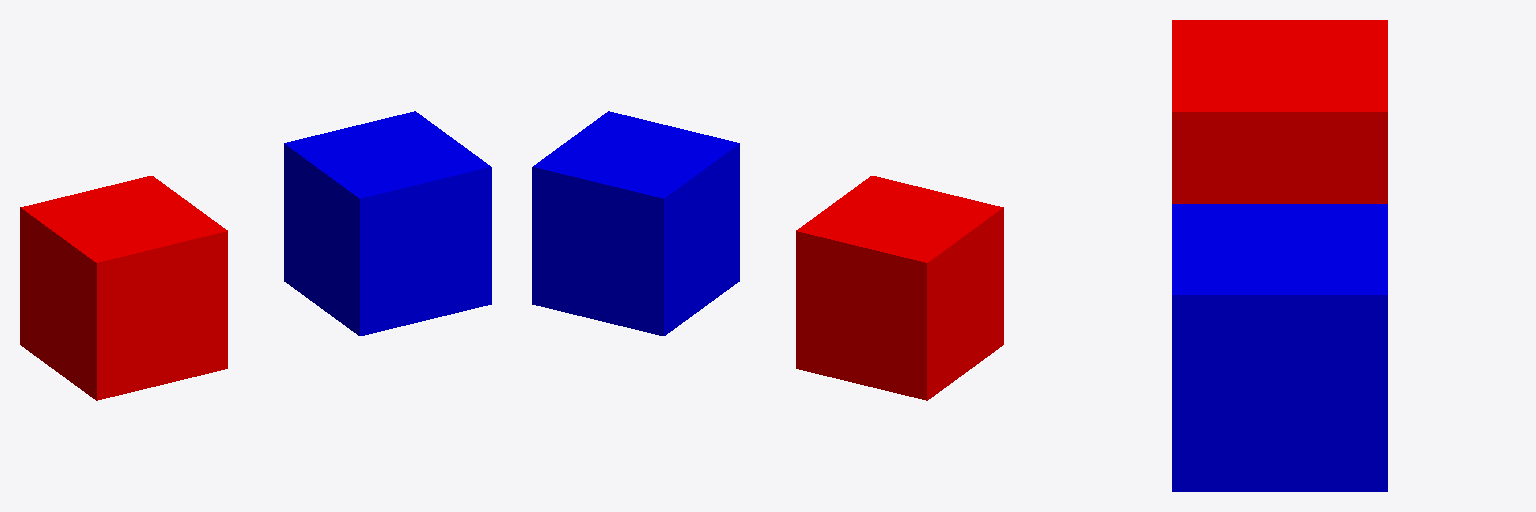
The robot description file, URDF, robot "two_cube_joint":
<?xml version="1.0"?>
<robot name="two_cube_joint">
  <!-- Base link (fixed cube) -->
  <link name="base">
    <visual>
      <geometry>
        <box size="0.1 0.1 0.1"/>
      </geometry>
      <origin xyz="0.0 0 0" rpy="0 0 0"/>
      <material name="red">
        <color rgba="1 0 0 1"/>
      </material>
    </visual>
    <collision>
      <geometry>
        <box size="0.1 0.1 0.1"/>
      </geometry>
      <origin xyz="0.0 0 0" rpy="0 0 0"/>
    </collision>
    <inertial>
      <mass value="1.0"/>
      <inertia ixx="0.00667" ixy="0.0" ixz="0.0" iyy="0.00667" iyz="0.0" izz="0.00667"/>
      <origin xyz="0 0 0" rpy="0 0 0"/>
    </inertial>
  </link>

  <!-- Moving link (cube connected by joint) -->
  <link name="moving">
    <visual>
      <geometry>
        <box size="0.1 0.1 0.1"/>
      </geometry>
      <origin xyz="0.1 0 0" rpy="0 0 0"/>
      <material name="blue">
        <color rgba="0 0 1 1"/>
      </material>
    </visual>
    <collision>
      <geometry>
        <box size="0.1 0.1 0.1"/>
      </geometry>
      <origin xyz="0.1 0 0" rpy="0 0 0"/>
    </collision>
    <inertial>
      <mass value="1.0"/>
      <inertia ixx="0.00667" ixy="0.0" ixz="0.0" iyy="0.00667" iyz="0.0" izz="0.00667"/>
      <origin xyz="0 0 0" rpy="0 0 0"/>
    </inertial>
  </link>

  <!-- Revolute joint connecting base to moving link -->
  <joint name="joint1" type="revolute">
    <parent link="base"/>
    <child link="moving"/>
    <origin xyz="0.1 0 0" rpy="0 0 0"/>
    <axis xyz="0 1 0"/>
    <limit lower="-1.57" upper="1.57" effort="100" velocity="1.0"/>
  </joint>

</robot>

--- What the picture shows (computed from the rendered views, not written in the file) ---
Views: 3 orthographic renders of the robot side by side, from view 1: azimuth 30°, elevation 25°; view 2: azimuth 150°, elevation 25°; view 3: azimuth 270°, elevation 25°.
Robot: two_cube_joint — 2 links, 1 joints (1 revolute); root link base; default pose: all joints at 0.
Visible links, largest first — view 1: base, moving; view 2: base, moving; view 3: moving, base.
Link boxes in pixels (x1,y1,x2,y2): base: (20, 176, 227, 400); moving: (284, 111, 491, 335); base: (796, 176, 1003, 400); moving: (532, 111, 739, 335); moving: (1172, 204, 1387, 491); base: (1172, 20, 1387, 203).
Bounding box of the posed robot: 0.3 × 0.1 × 0.1 m (x, y, z).
Geometry: primitives only (box / cylinder / sphere), no mesh files.